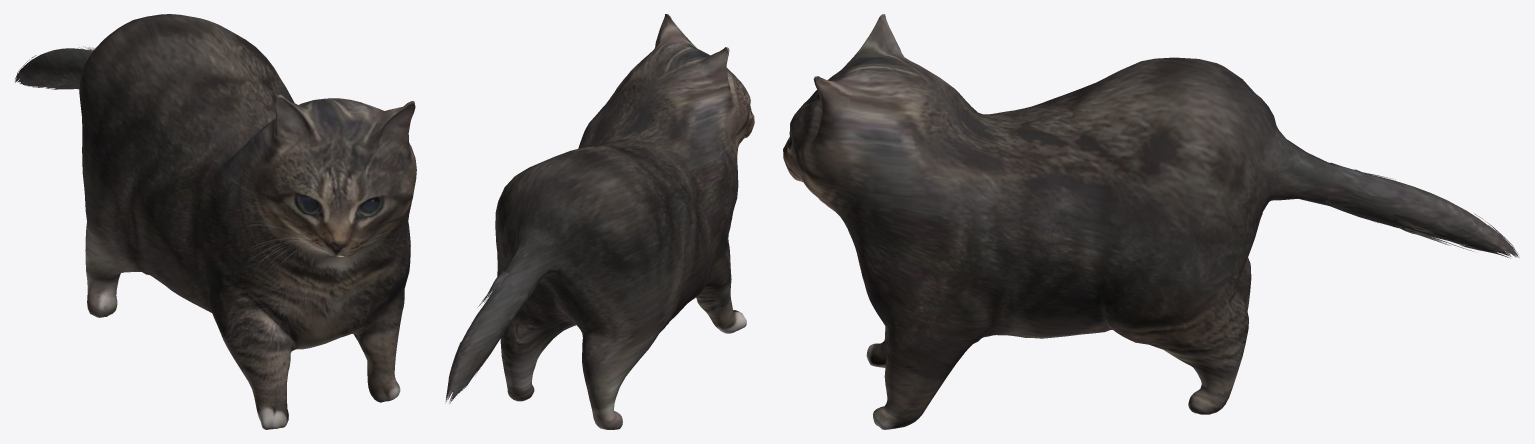
Rendered from oiia-compressed.glb.
3 renders of one model, left to right at view 1: azimuth 30°, elevation 25°; view 2: azimuth 150°, elevation 25°; view 3: azimuth 270°, elevation 25°, orthographic. The views are drawn at different scales.
Parts seen in each view (by area): view 1: Muchkin1.002; view 2: Muchkin1.002; view 3: Muchkin1.002.
Boxes of the visible parts, bbox=[...] form: Muchkin1.002: bbox=[15, 14, 416, 429]; Muchkin1.002: bbox=[445, 14, 754, 429]; Muchkin1.002: bbox=[783, 14, 1519, 429].
Size of the model in its own units: 0.2392 by 0.3867 by 0.7242.
1 material, 1 textured.
